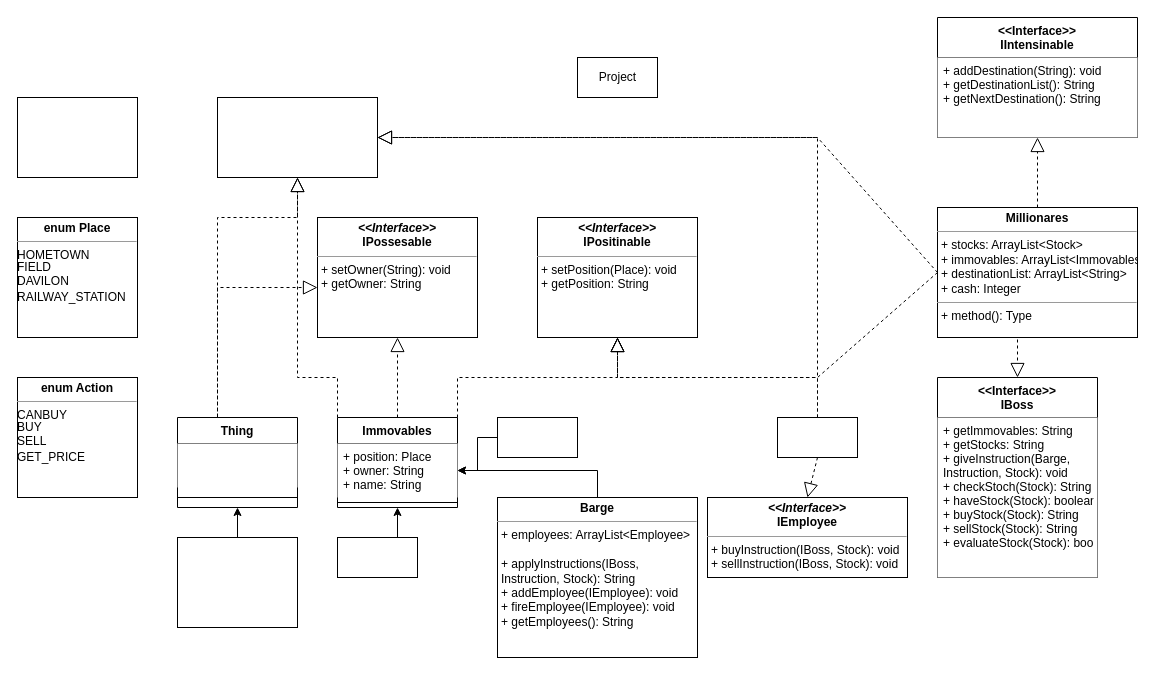
Some shapes in this 1164 by 675 pixel diagram are drawn without their labels. Here are the shapes that lost their labels. From the top down, the centre of each, then its label:
[77,137]: enum Instruction BUY SELL
[297,137]: <<Interface>> IName + setName(String): void + getName: String
[537,437]: PastaFactory
[817,437]: Loudthroat
[237,465]: + owner: String + name: String
[377,557]: Home
[237,582]: Stock + price: Integer + setPrice(Integer): void + getPrice(): Integer
